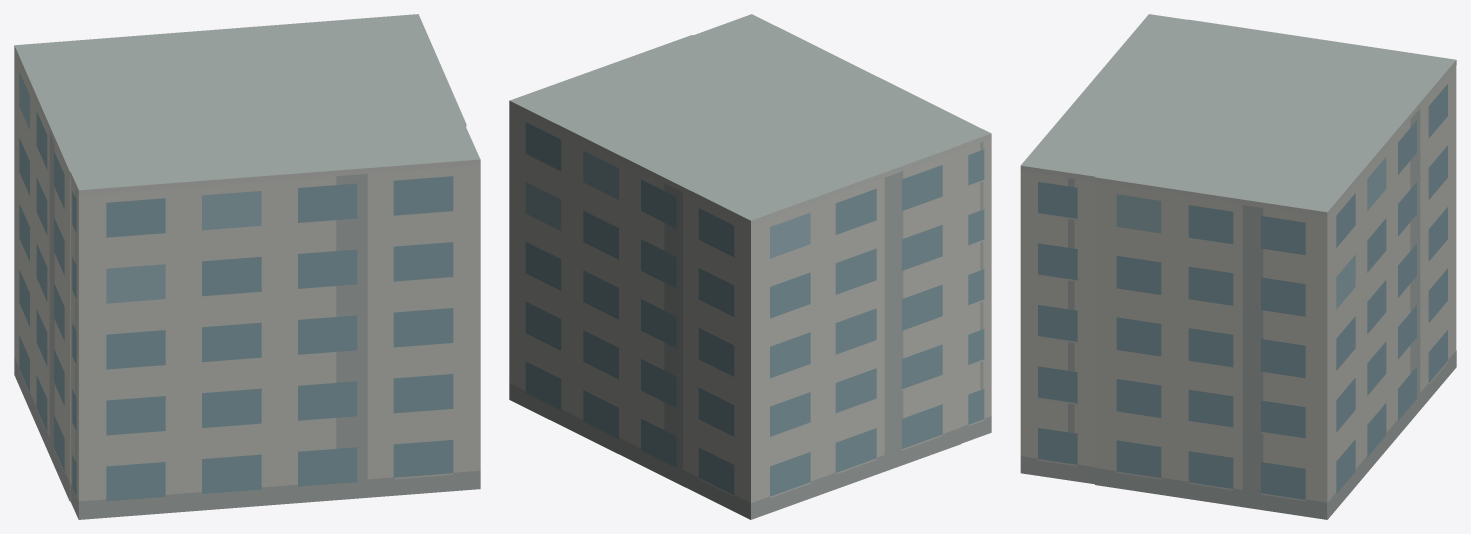
Rendered from survey-upis-32994689.glb.
The picture shows the model from 3 angles, left to right: view 1: azimuth 30°, elevation 25°; view 2: azimuth 150°, elevation 25°; view 3: azimuth 270°, elevation 25°; orthographic projection. The views are drawn at different scales.
Visible parts, largest first — view 1: survey-upis-32994689.tmp; view 2: survey-upis-32994689.tmp; view 3: survey-upis-32994689.tmp.
Boxes of the visible parts, <box> form: survey-upis-32994689.tmp: <box>14,14,480,519</box>; survey-upis-32994689.tmp: <box>509,14,991,519</box>; survey-upis-32994689.tmp: <box>1020,14,1456,519</box>.
Size of the model in its own units: 19.09 by 13.8 by 17.73.
